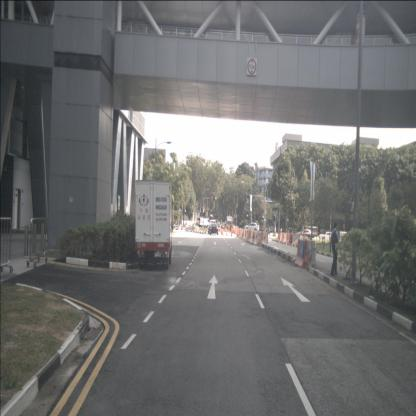barrier: (293, 238, 309, 269), (301, 240, 318, 269), (240, 228, 253, 245), (254, 230, 261, 245), (286, 232, 291, 243), (283, 233, 287, 243), (280, 232, 284, 241)
cone: (258, 234, 262, 247), (225, 226, 228, 237), (230, 227, 233, 237), (235, 228, 238, 237)
